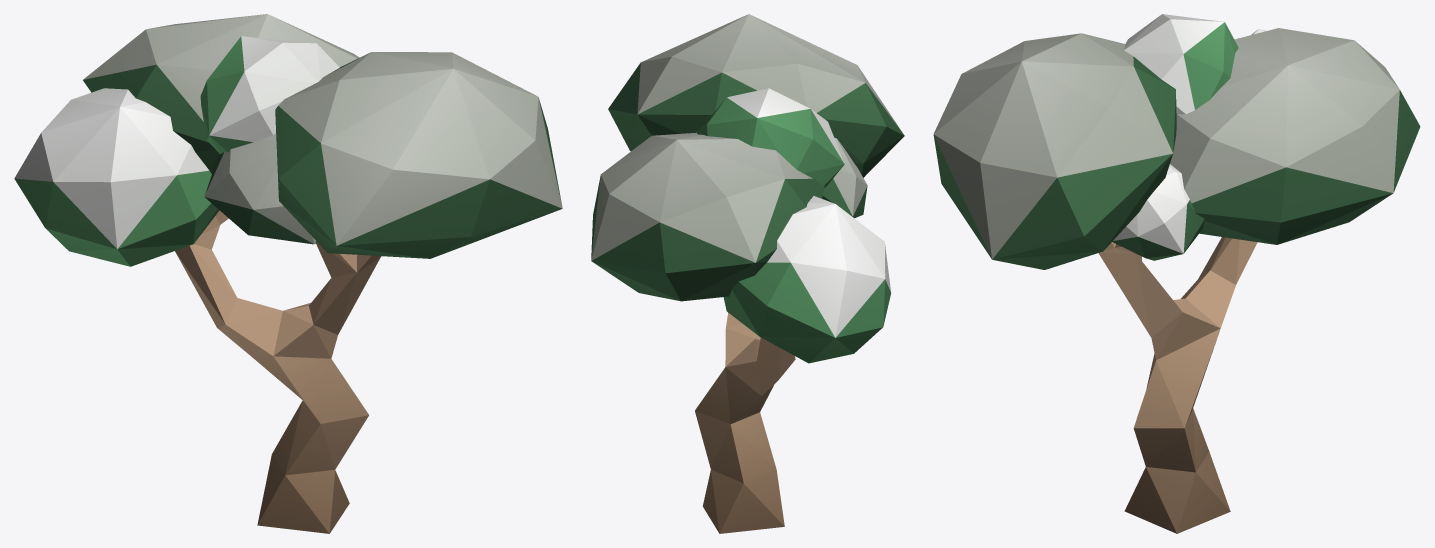
The model's file is SnowTree2.fbx.
3 renders of one model, left to right at view 1: azimuth 30°, elevation 25°; view 2: azimuth 150°, elevation 25°; view 3: azimuth 270°, elevation 25°, orthographic. The views are drawn at different scales.
Parts seen in each view (by area): view 1: SnowTree2; view 2: SnowTree2; view 3: SnowTree2.
Boxes of the visible parts, x1=… form: SnowTree2: x1=14, y1=14, x2=562, y2=533; SnowTree2: x1=591, y1=14, x2=904, y2=533; SnowTree2: x1=933, y1=14, x2=1420, y2=533.
Size of the model in its own units: 404 by 463 by 421.
